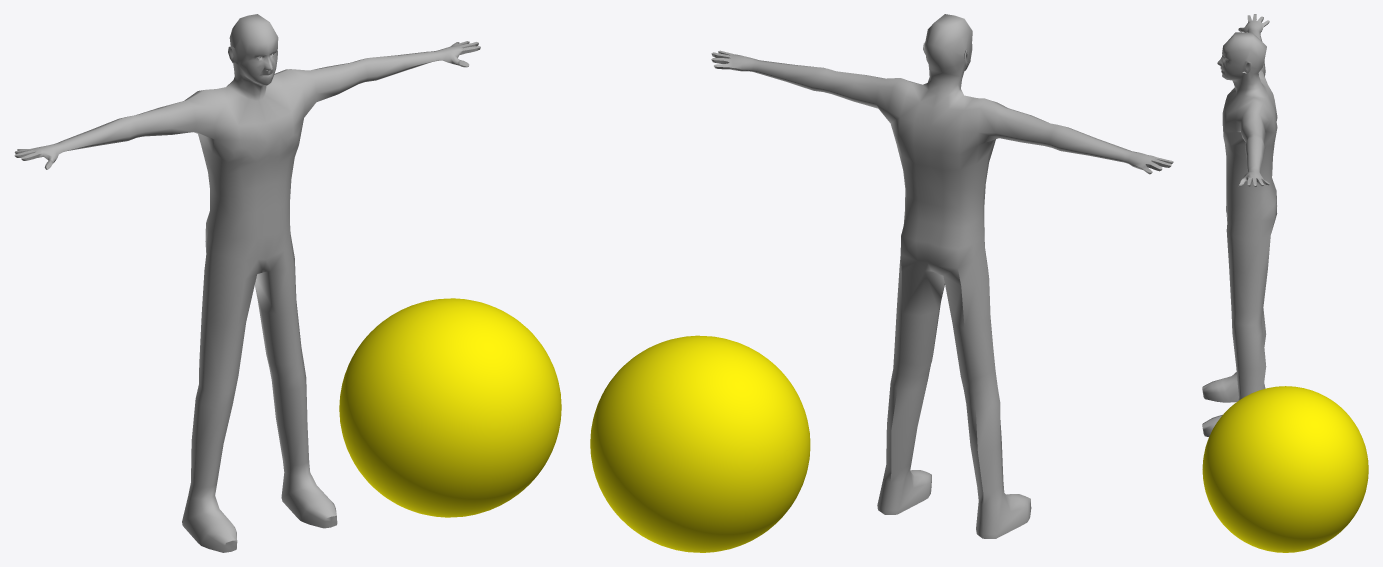
Rendered from xsi_man2.fbx.
3 views of the same model, side by side, from view 1: azimuth 30°, elevation 25°; view 2: azimuth 150°, elevation 25°; view 3: azimuth 270°, elevation 25° (orthographic). The views are drawn at different scales.
Visible parts, largest first — view 1: node_id5, root; view 2: node_id5, root; view 3: root, node_id5.
Part boxes in pixels (bbox=[...]): node_id5: bbox=[14, 14, 480, 552]; root: bbox=[339, 298, 561, 517]; node_id5: bbox=[711, 14, 1173, 538]; root: bbox=[590, 335, 810, 552]; root: bbox=[1202, 386, 1368, 552]; node_id5: bbox=[1202, 14, 1277, 436].
Bounding box in the file's own units: 0.5919 × 0.5752 × 0.2038.
Materials: 4 (1 with a texture image).
